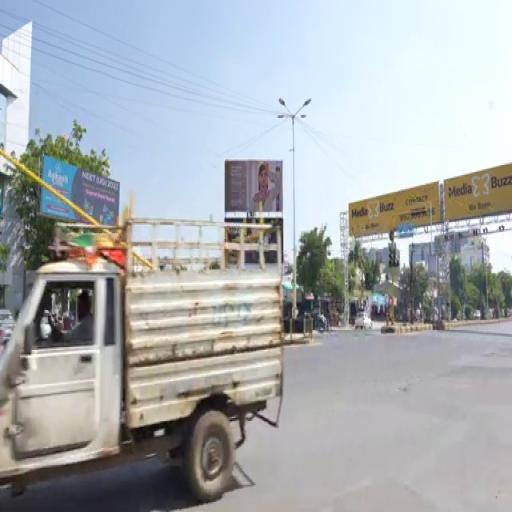Car: (0, 309, 15, 344), (355, 312, 371, 328)
